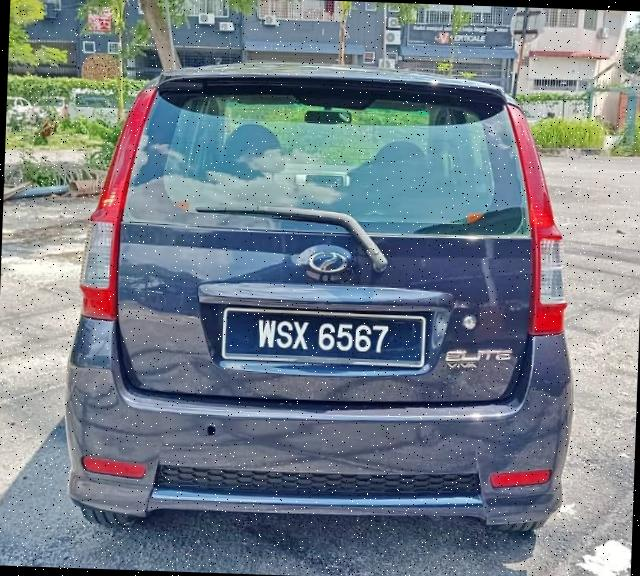License_Plate: (231, 313, 408, 361)
car: (59, 47, 582, 531)
